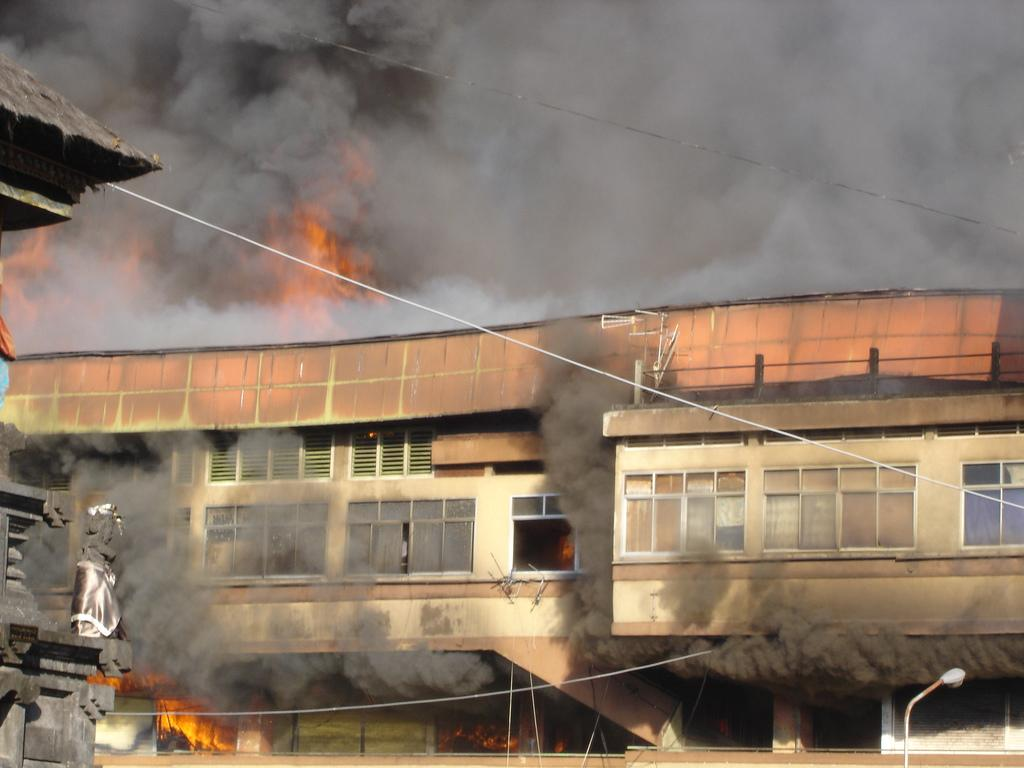fire: (6, 236, 146, 334), (284, 204, 358, 316), (150, 696, 256, 748)
smoke: (498, 10, 1002, 286), (94, 8, 300, 154), (718, 632, 994, 688), (122, 508, 186, 664), (550, 374, 622, 504)
